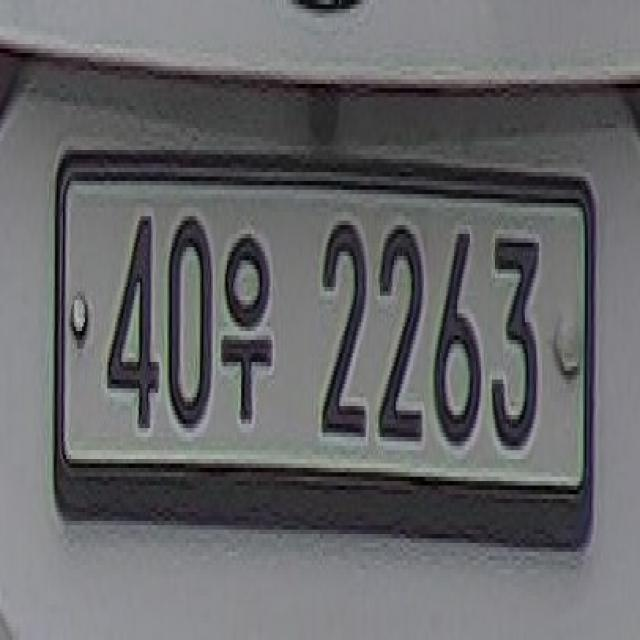0: (166, 216, 214, 437)
2: (316, 207, 368, 446), (374, 216, 426, 442)
3: (486, 230, 540, 450)
4: (107, 198, 161, 432)
6: (428, 220, 482, 454)
license_plate: (55, 146, 598, 512)
u: (221, 230, 274, 432)
